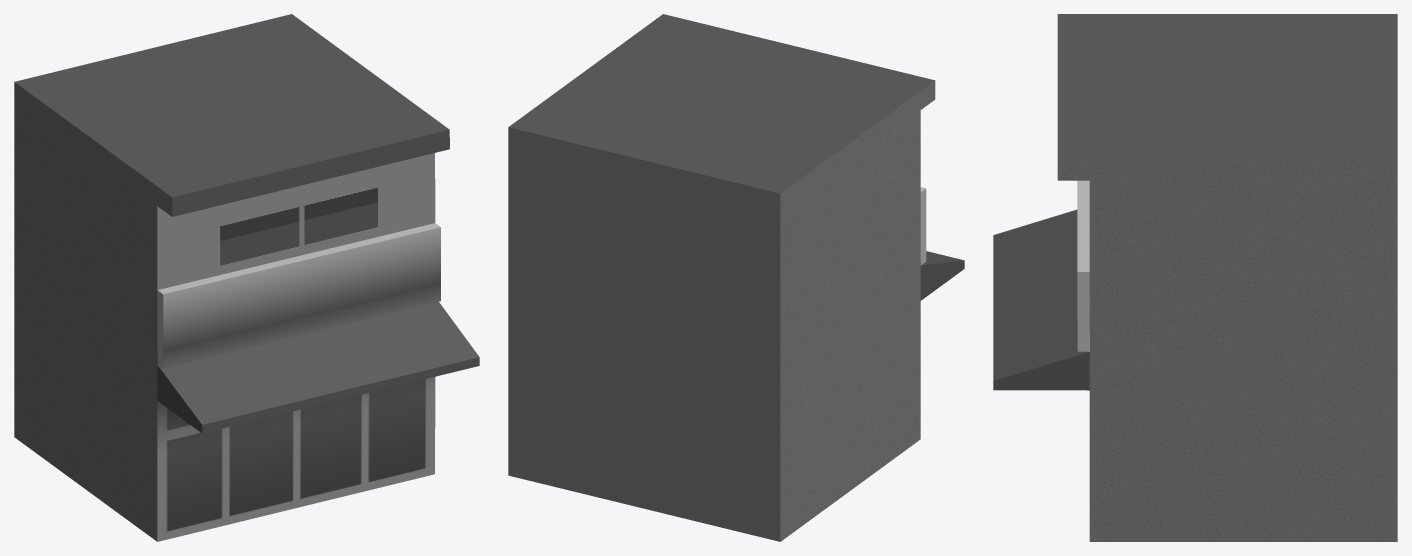
The model's file is Yakkyoku.FBX.
The picture shows the model from 3 angles, left to right: view 1: azimuth 30°, elevation 25°; view 2: azimuth 150°, elevation 25°; view 3: azimuth 270°, elevation 25°; orthographic projection. The views are drawn at different scales.
Visible parts, largest first — view 1: yakkyoku; view 2: yakkyoku; view 3: yakkyoku.
Part boxes in pixels (x1,y1,x2,y2): yakkyoku: (14, 14, 479, 541); yakkyoku: (508, 14, 964, 541); yakkyoku: (993, 14, 1397, 541).
Size of the model in its own units: 143 by 175 by 167.
